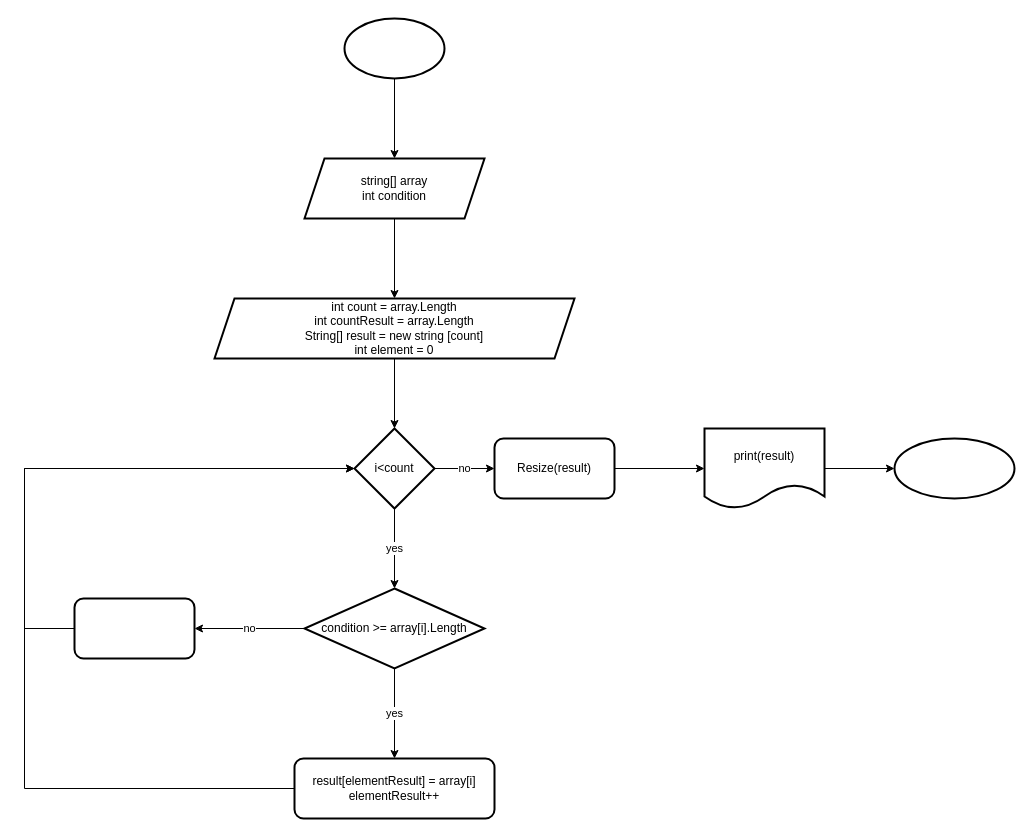
Image size: 1033x836. Some labels were removed from this diagram. The centre of each missing label's shape, as x and y in pixels:
countResult--: (134,628)
end: (954,468)
start: (394,48)
